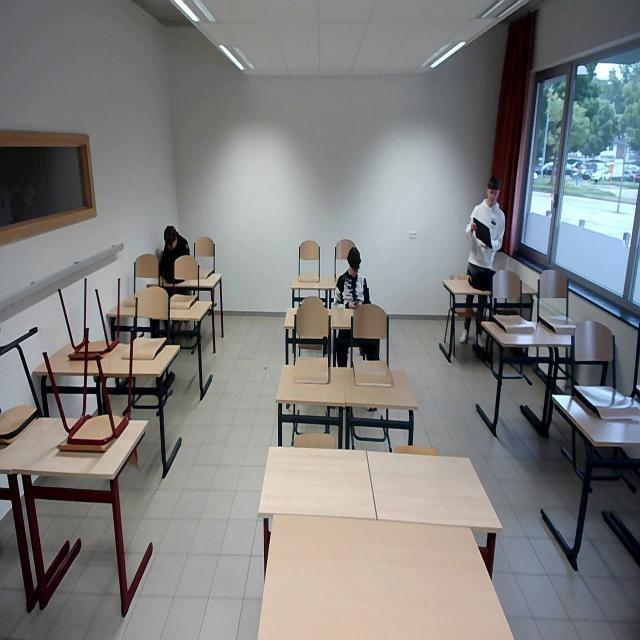phone_use: (333, 241, 369, 306), (158, 225, 188, 282)
